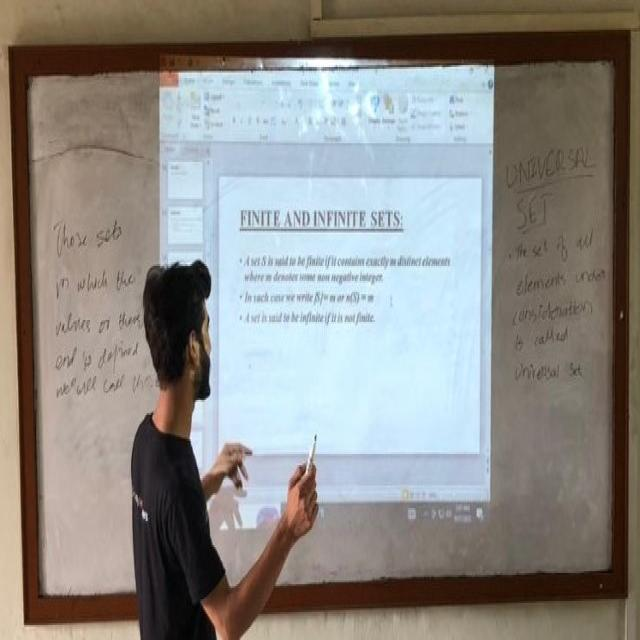Instructor: (133, 242, 246, 640)
Slide: (156, 56, 498, 550)
White-board: (21, 40, 624, 613)
